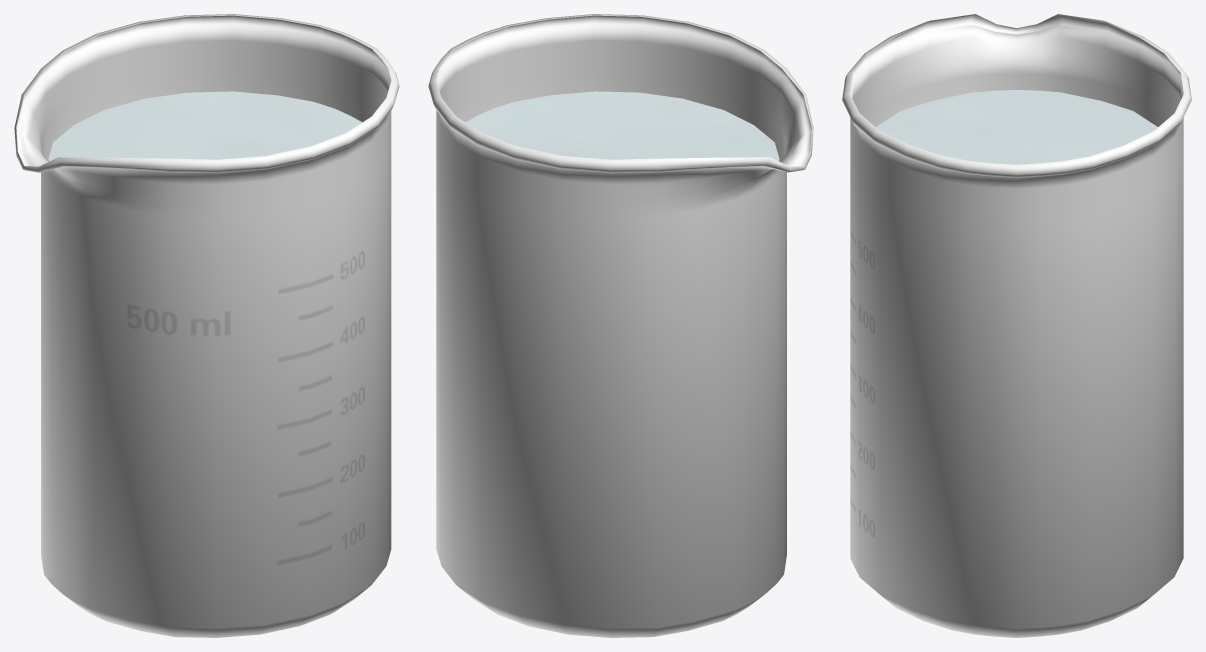
File: 去离子水.glb
3 renders of one model, left to right at view 1: azimuth 30°, elevation 25°; view 2: azimuth 150°, elevation 25°; view 3: azimuth 270°, elevation 25°, orthographic.
Parts seen in each view (by area): view 1: 烧杯.001, 烧杯液体; view 2: 烧杯.001, 烧杯液体; view 3: 烧杯.001, 烧杯液体.
Part boxes in pixels (left/top/right/bottom): 烧杯.001: left=14, top=14, right=399, bottom=637; 烧杯液体: left=48, top=91, right=361, bottom=161; 烧杯.001: left=428, top=14, right=813, bottom=637; 烧杯液体: left=465, top=91, right=779, bottom=161; 烧杯.001: left=842, top=14, right=1191, bottom=637; 烧杯液体: left=876, top=90, right=1157, bottom=164.
Bounding box in the file's own units: 0.1475 × 0.1925 × 0.1267.
2 materials, 2 textured.
